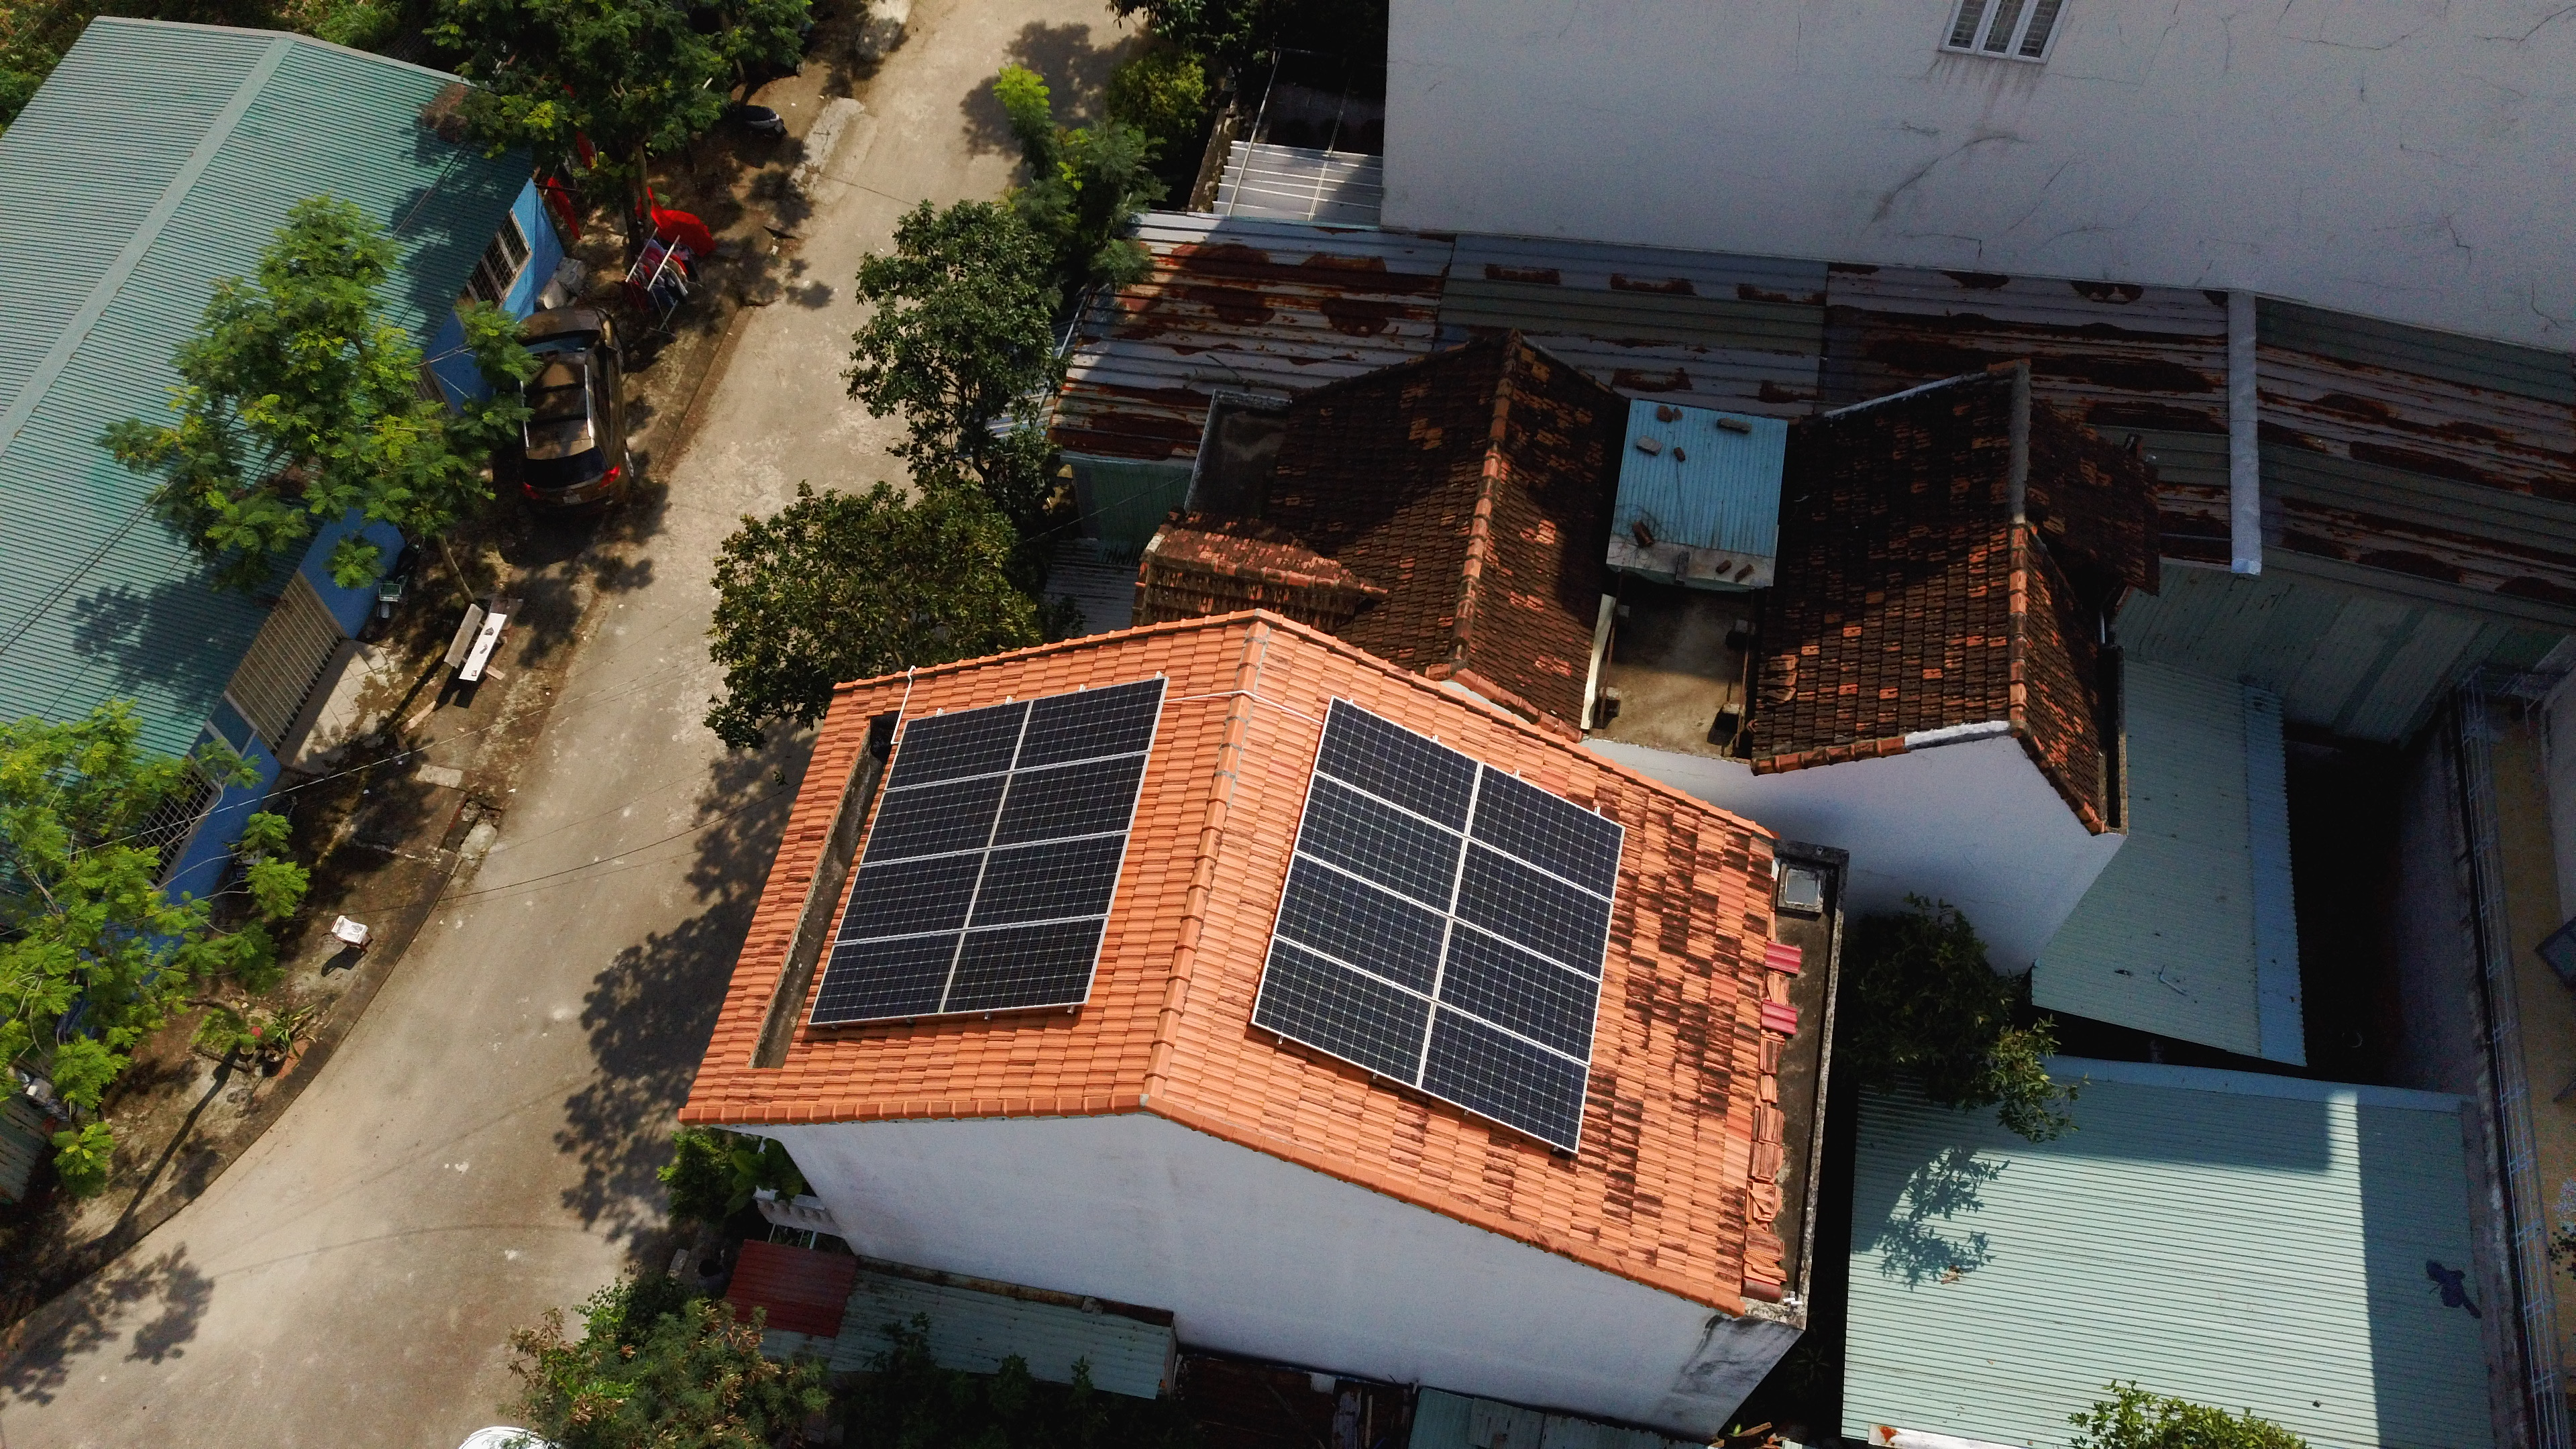solar: (1247, 932, 1437, 1092), (1272, 847, 1454, 1005), (1415, 998, 1591, 1154), (1292, 768, 1468, 920), (1311, 694, 1486, 839), (1433, 916, 1601, 1067), (1453, 837, 1615, 984), (1465, 763, 1626, 902), (936, 911, 1111, 1017), (961, 830, 1131, 932), (985, 748, 1150, 849), (830, 847, 989, 950), (1008, 674, 1169, 775), (805, 929, 966, 1028), (881, 697, 1039, 793), (856, 771, 1012, 867)
